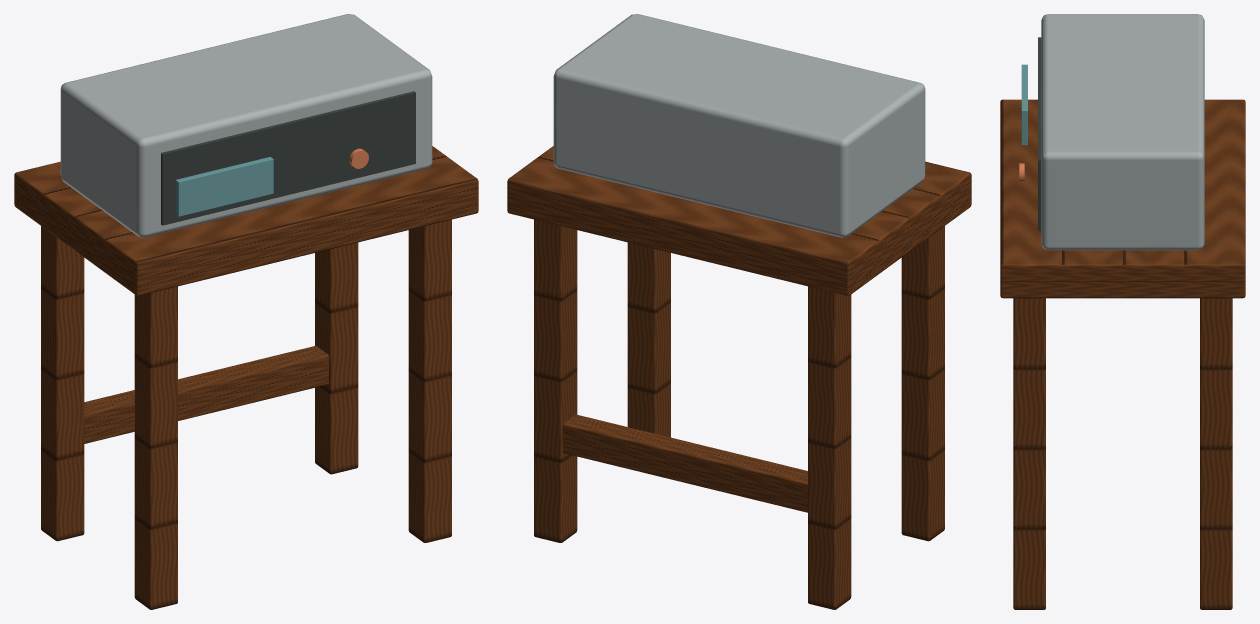
File: off-grid-power-and-controls-remote-control-console-a4c8a9ee__3030.glb
3 renders of one model, left to right at view 1: azimuth 30°, elevation 25°; view 2: azimuth 150°, elevation 25°; view 3: azimuth 270°, elevation 25°, orthographic.
Visible parts, largest first — view 1: remote-control-console; view 2: remote-control-console; view 3: remote-control-console.
Part boxes in pixels (x1,y1,x2,y2): remote-control-console: (14,14,478,609); remote-control-console: (507,14,971,609); remote-control-console: (1000,14,1245,609).
Size of the model in its own units: 0.72 by 0.92 by 0.45.
Materials: 5 (1 with a texture image).
